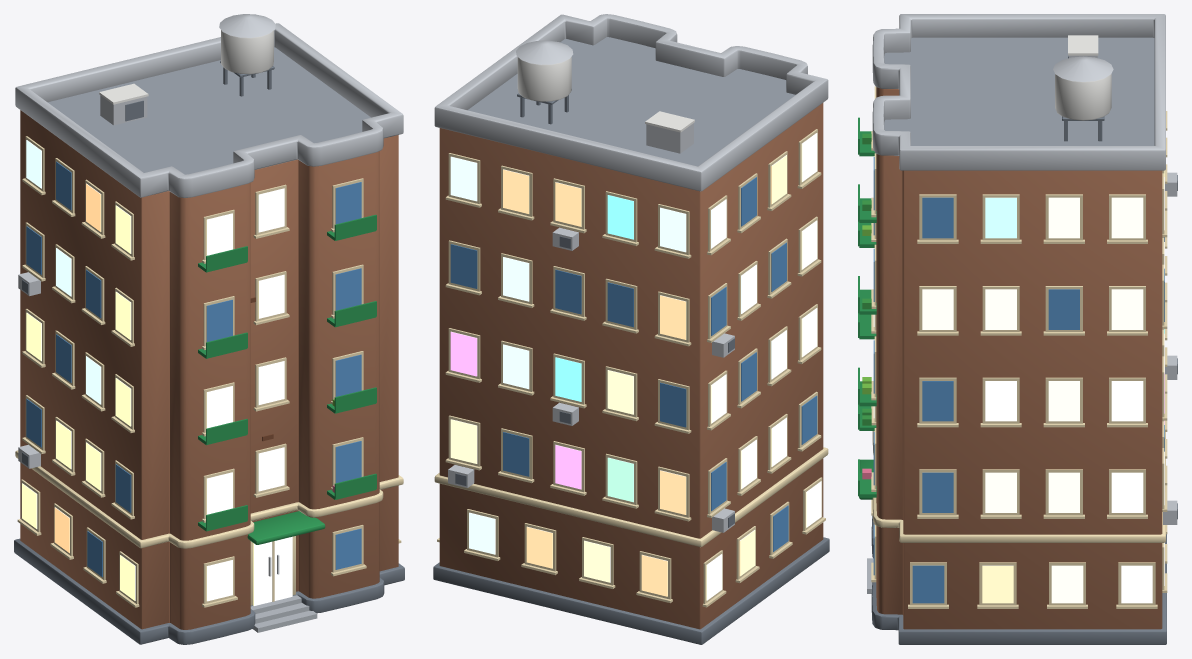
File: apto_marrom_baias.glb
3 renders of one model, left to right at view 1: azimuth 30°, elevation 25°; view 2: azimuth 150°, elevation 25°; view 3: azimuth 270°, elevation 25°, orthographic. The views are drawn at different scales.
Parts seen in each view (by area): view 1: apto_marrom_baias; view 2: apto_marrom_baias; view 3: apto_marrom_baias.
Boxes of the visible parts, <box> form: apto_marrom_baias: <box>14,14,404,644</box>; apto_marrom_baias: <box>433,14,829,644</box>; apto_marrom_baias: <box>858,14,1177,644</box>.
Size of the model in its own units: 10.65 by 19.26 by 10.12.
Materials: 8 (1 with a texture image).
